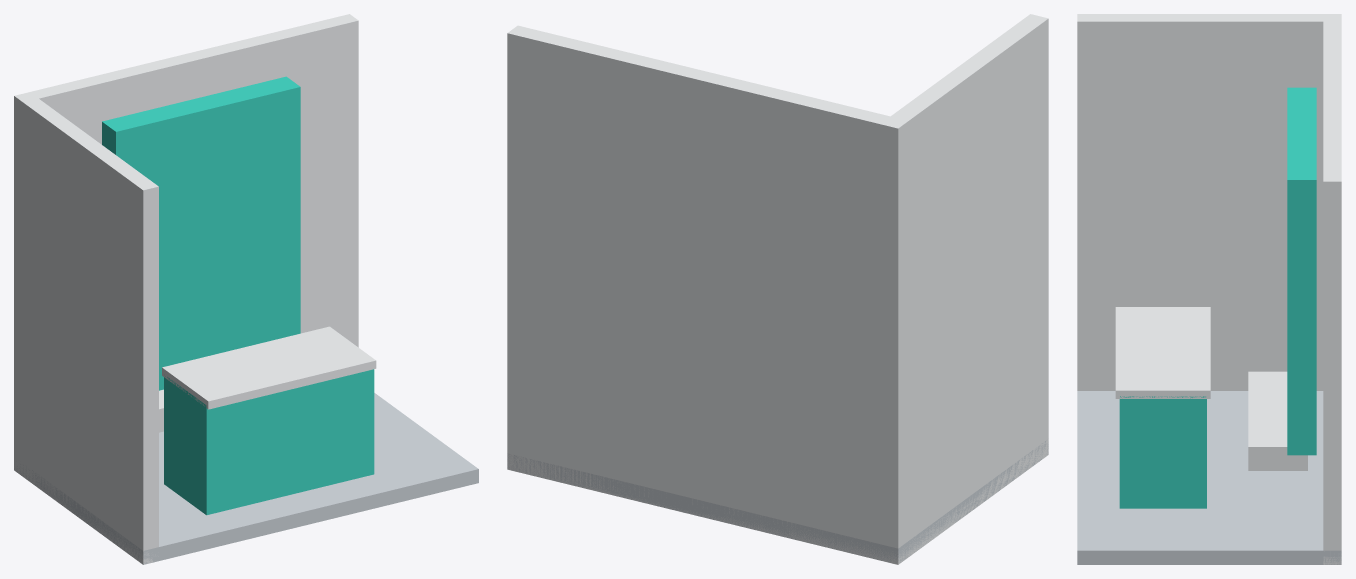
3 views of the same model, side by side, from view 1: azimuth 30°, elevation 25°; view 2: azimuth 150°, elevation 25°; view 3: azimuth 270°, elevation 25° (orthographic). The views are drawn at different scales.
Parts seen in each view (by area): view 1: Exhibition Booth Concept; view 2: Exhibition Booth Concept; view 3: Exhibition Booth Concept.
Part boxes in pixels (x1,y1,x2,y2): Exhibition Booth Concept: (14, 14, 478, 564); Exhibition Booth Concept: (507, 14, 1048, 564); Exhibition Booth Concept: (1077, 14, 1341, 564).
Size of the model in its own units: 3 by 3.2 by 2.
